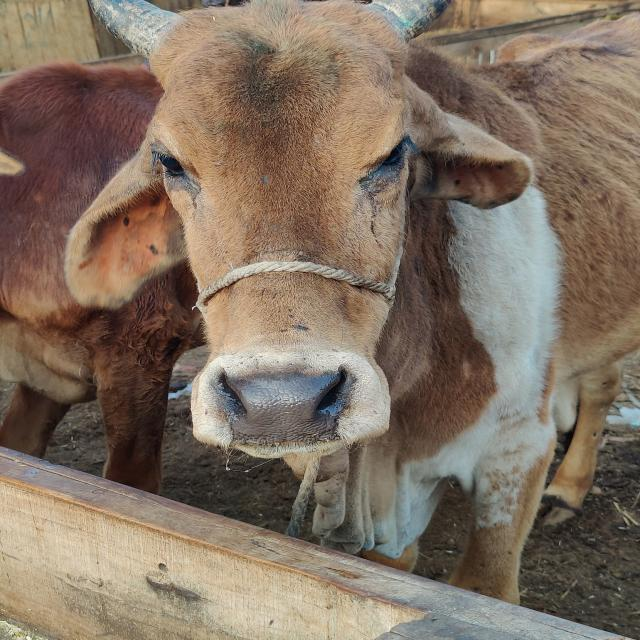muzzles: (204, 358, 364, 453)
